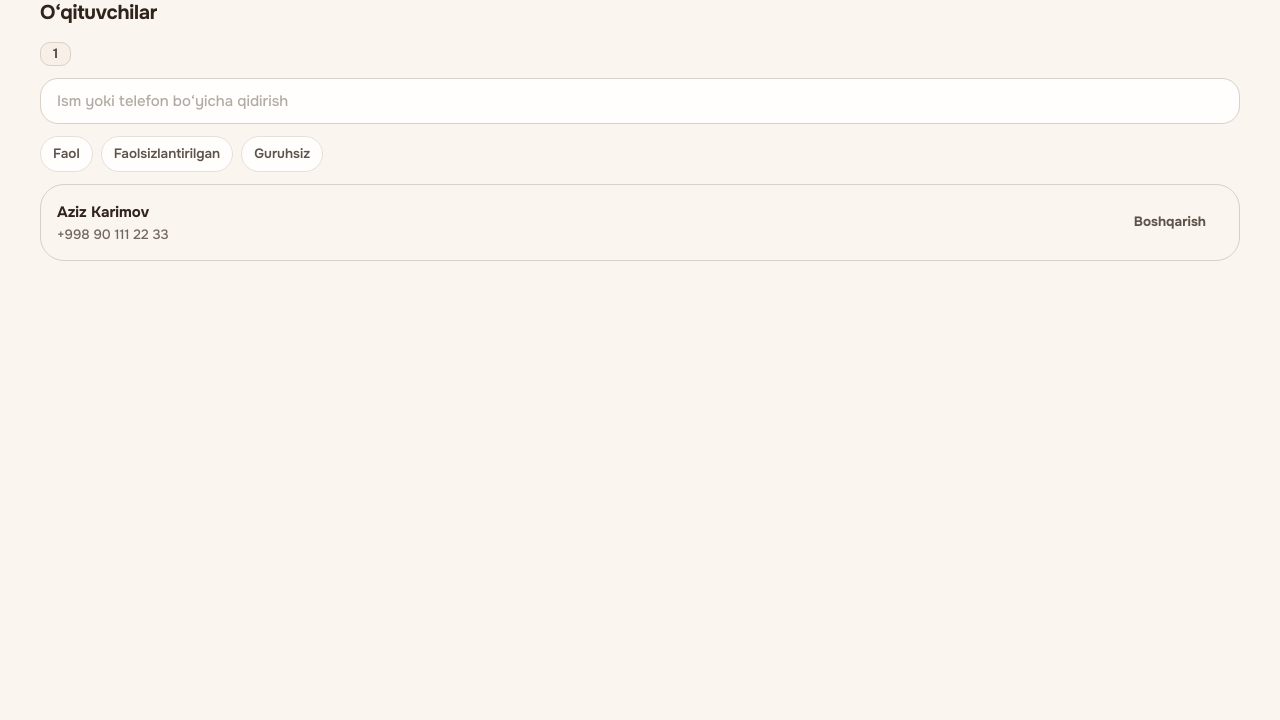
Guruhni o'tkazish › with no other active teacher, explains why and cannot be confirmed
The image size is (1280, 720).
Click the button "Boshqarish" at (1170, 222), box [1117, 202, 1223, 242]
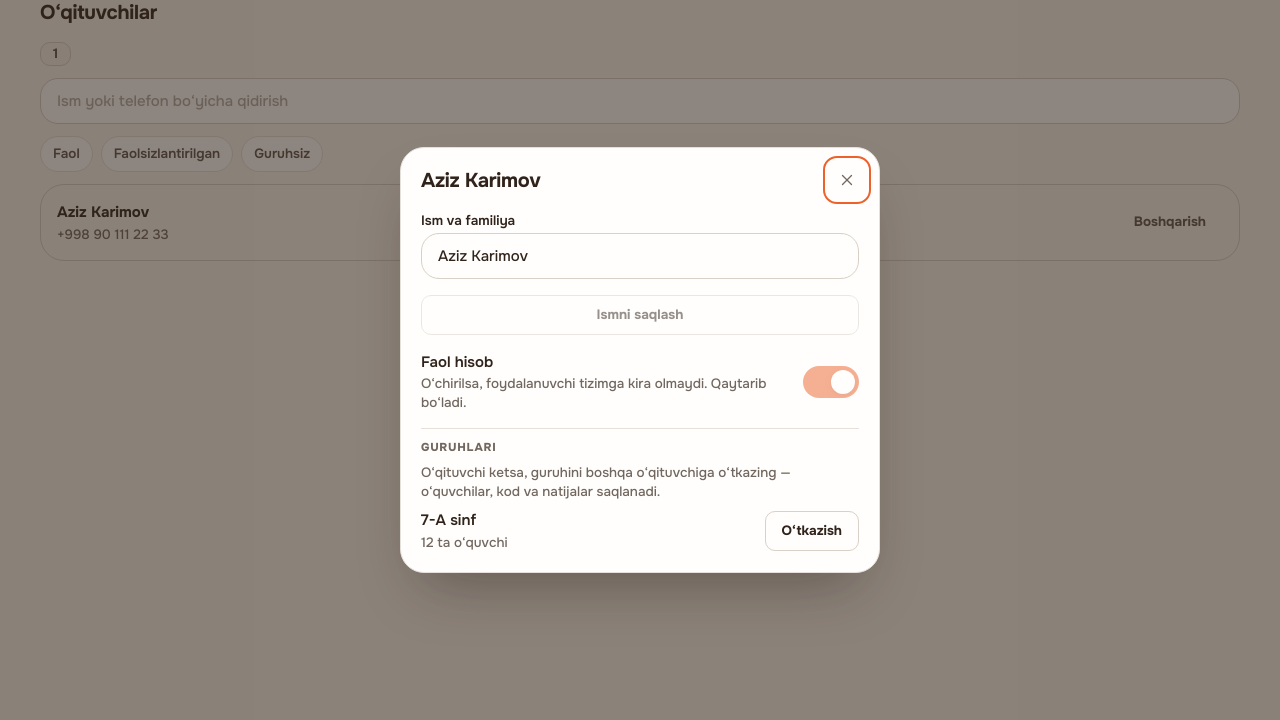
Click the button "O‘tkazish" at (812, 530), box [764, 510, 859, 550]
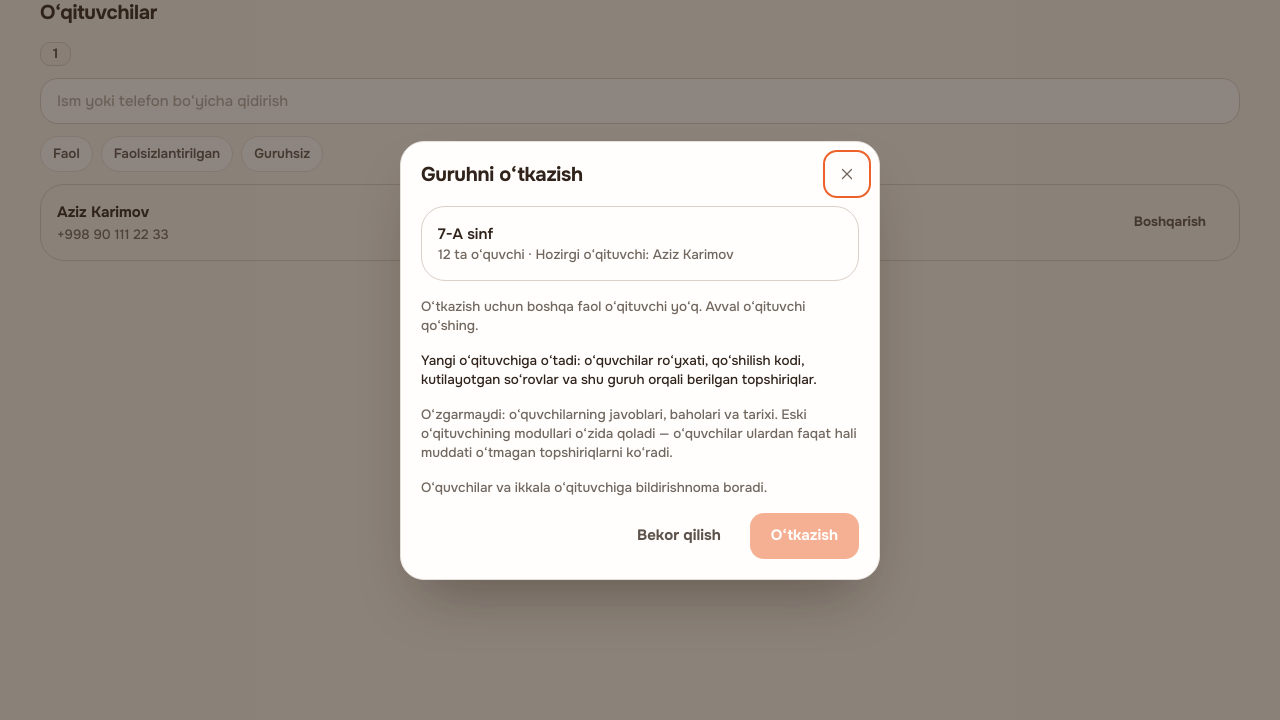
Expected: the heading "Guruhni o‘tkazish" is shown, [421, 162, 583, 186]
Expected: the text "O‘tkazish uchun boshqa faol o‘qituvchi yo‘q. Avval o‘qituvchi qo‘shing." is shown, [421, 296, 859, 334]
Expected: the button "O‘tkazish" is disabled, [750, 512, 859, 558]
